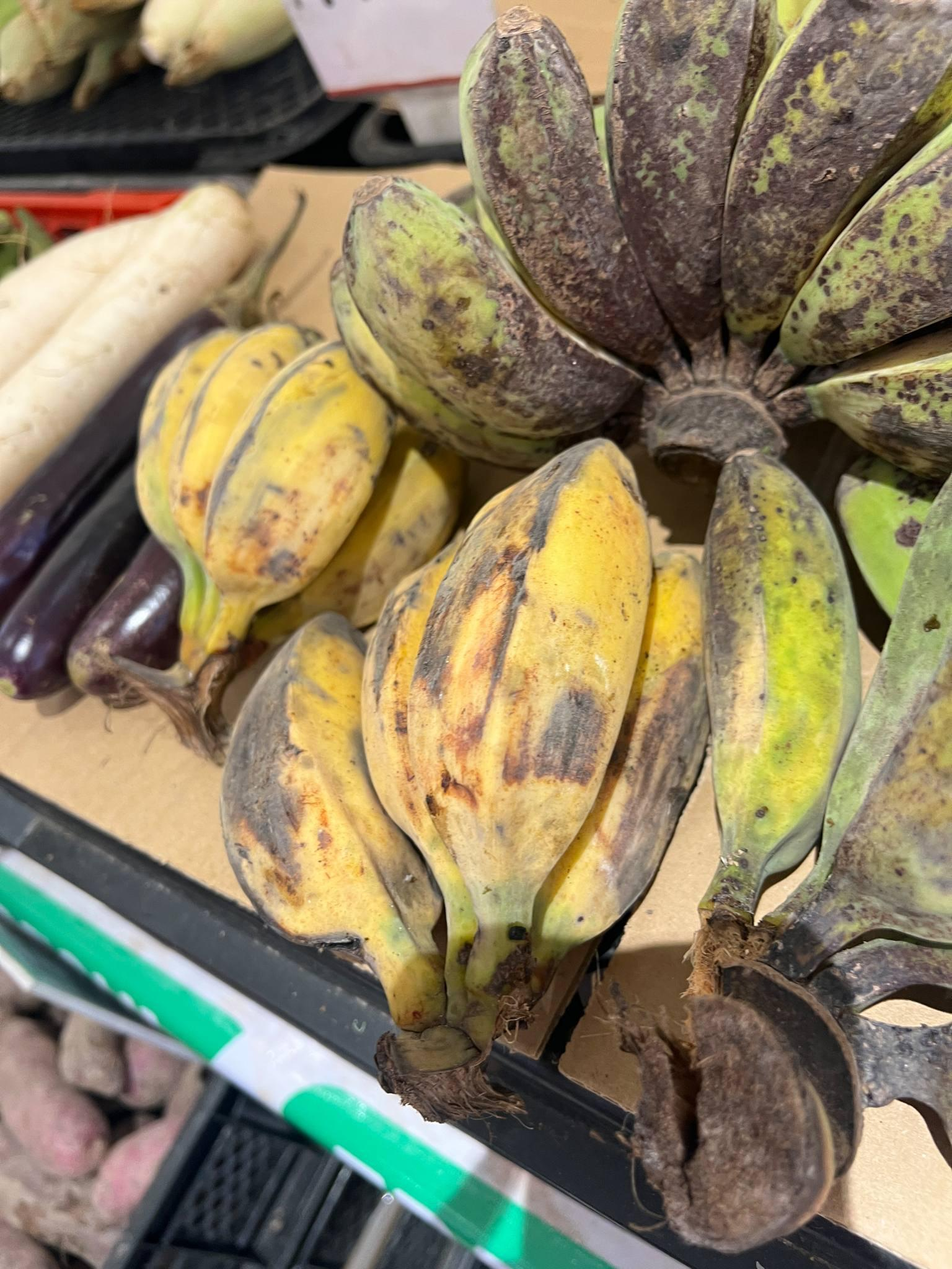ripe: (217, 434, 713, 965), (136, 321, 521, 643)
underripe: (330, 0, 951, 488), (703, 451, 951, 996)
